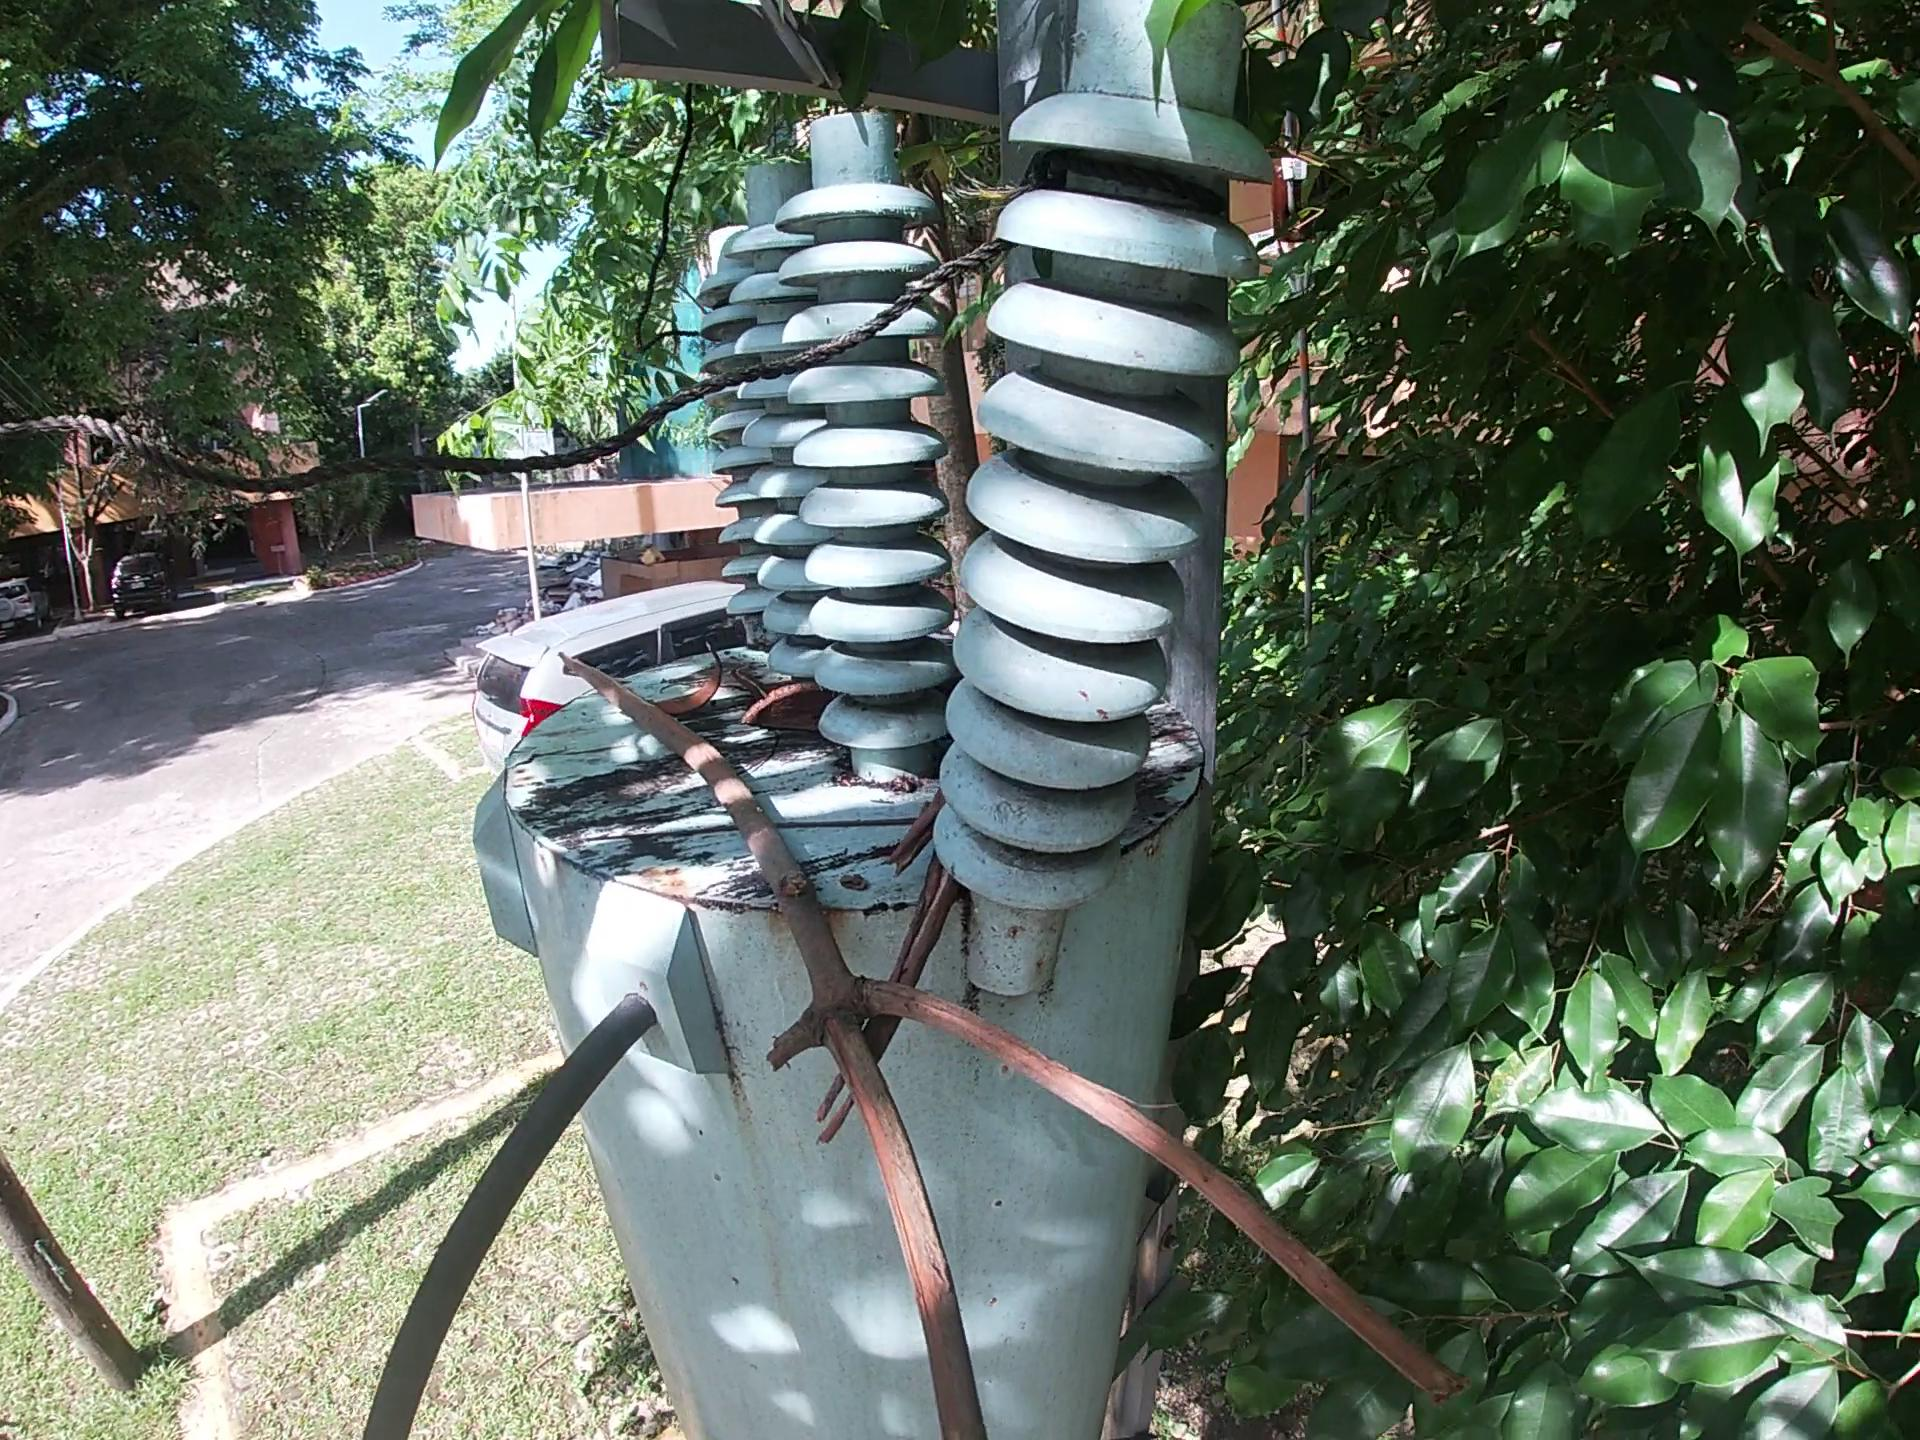mahogany fruit: (644, 644, 733, 728), (738, 678, 841, 744)
tree branch: (550, 646, 1473, 1438), (804, 790, 971, 1156)
